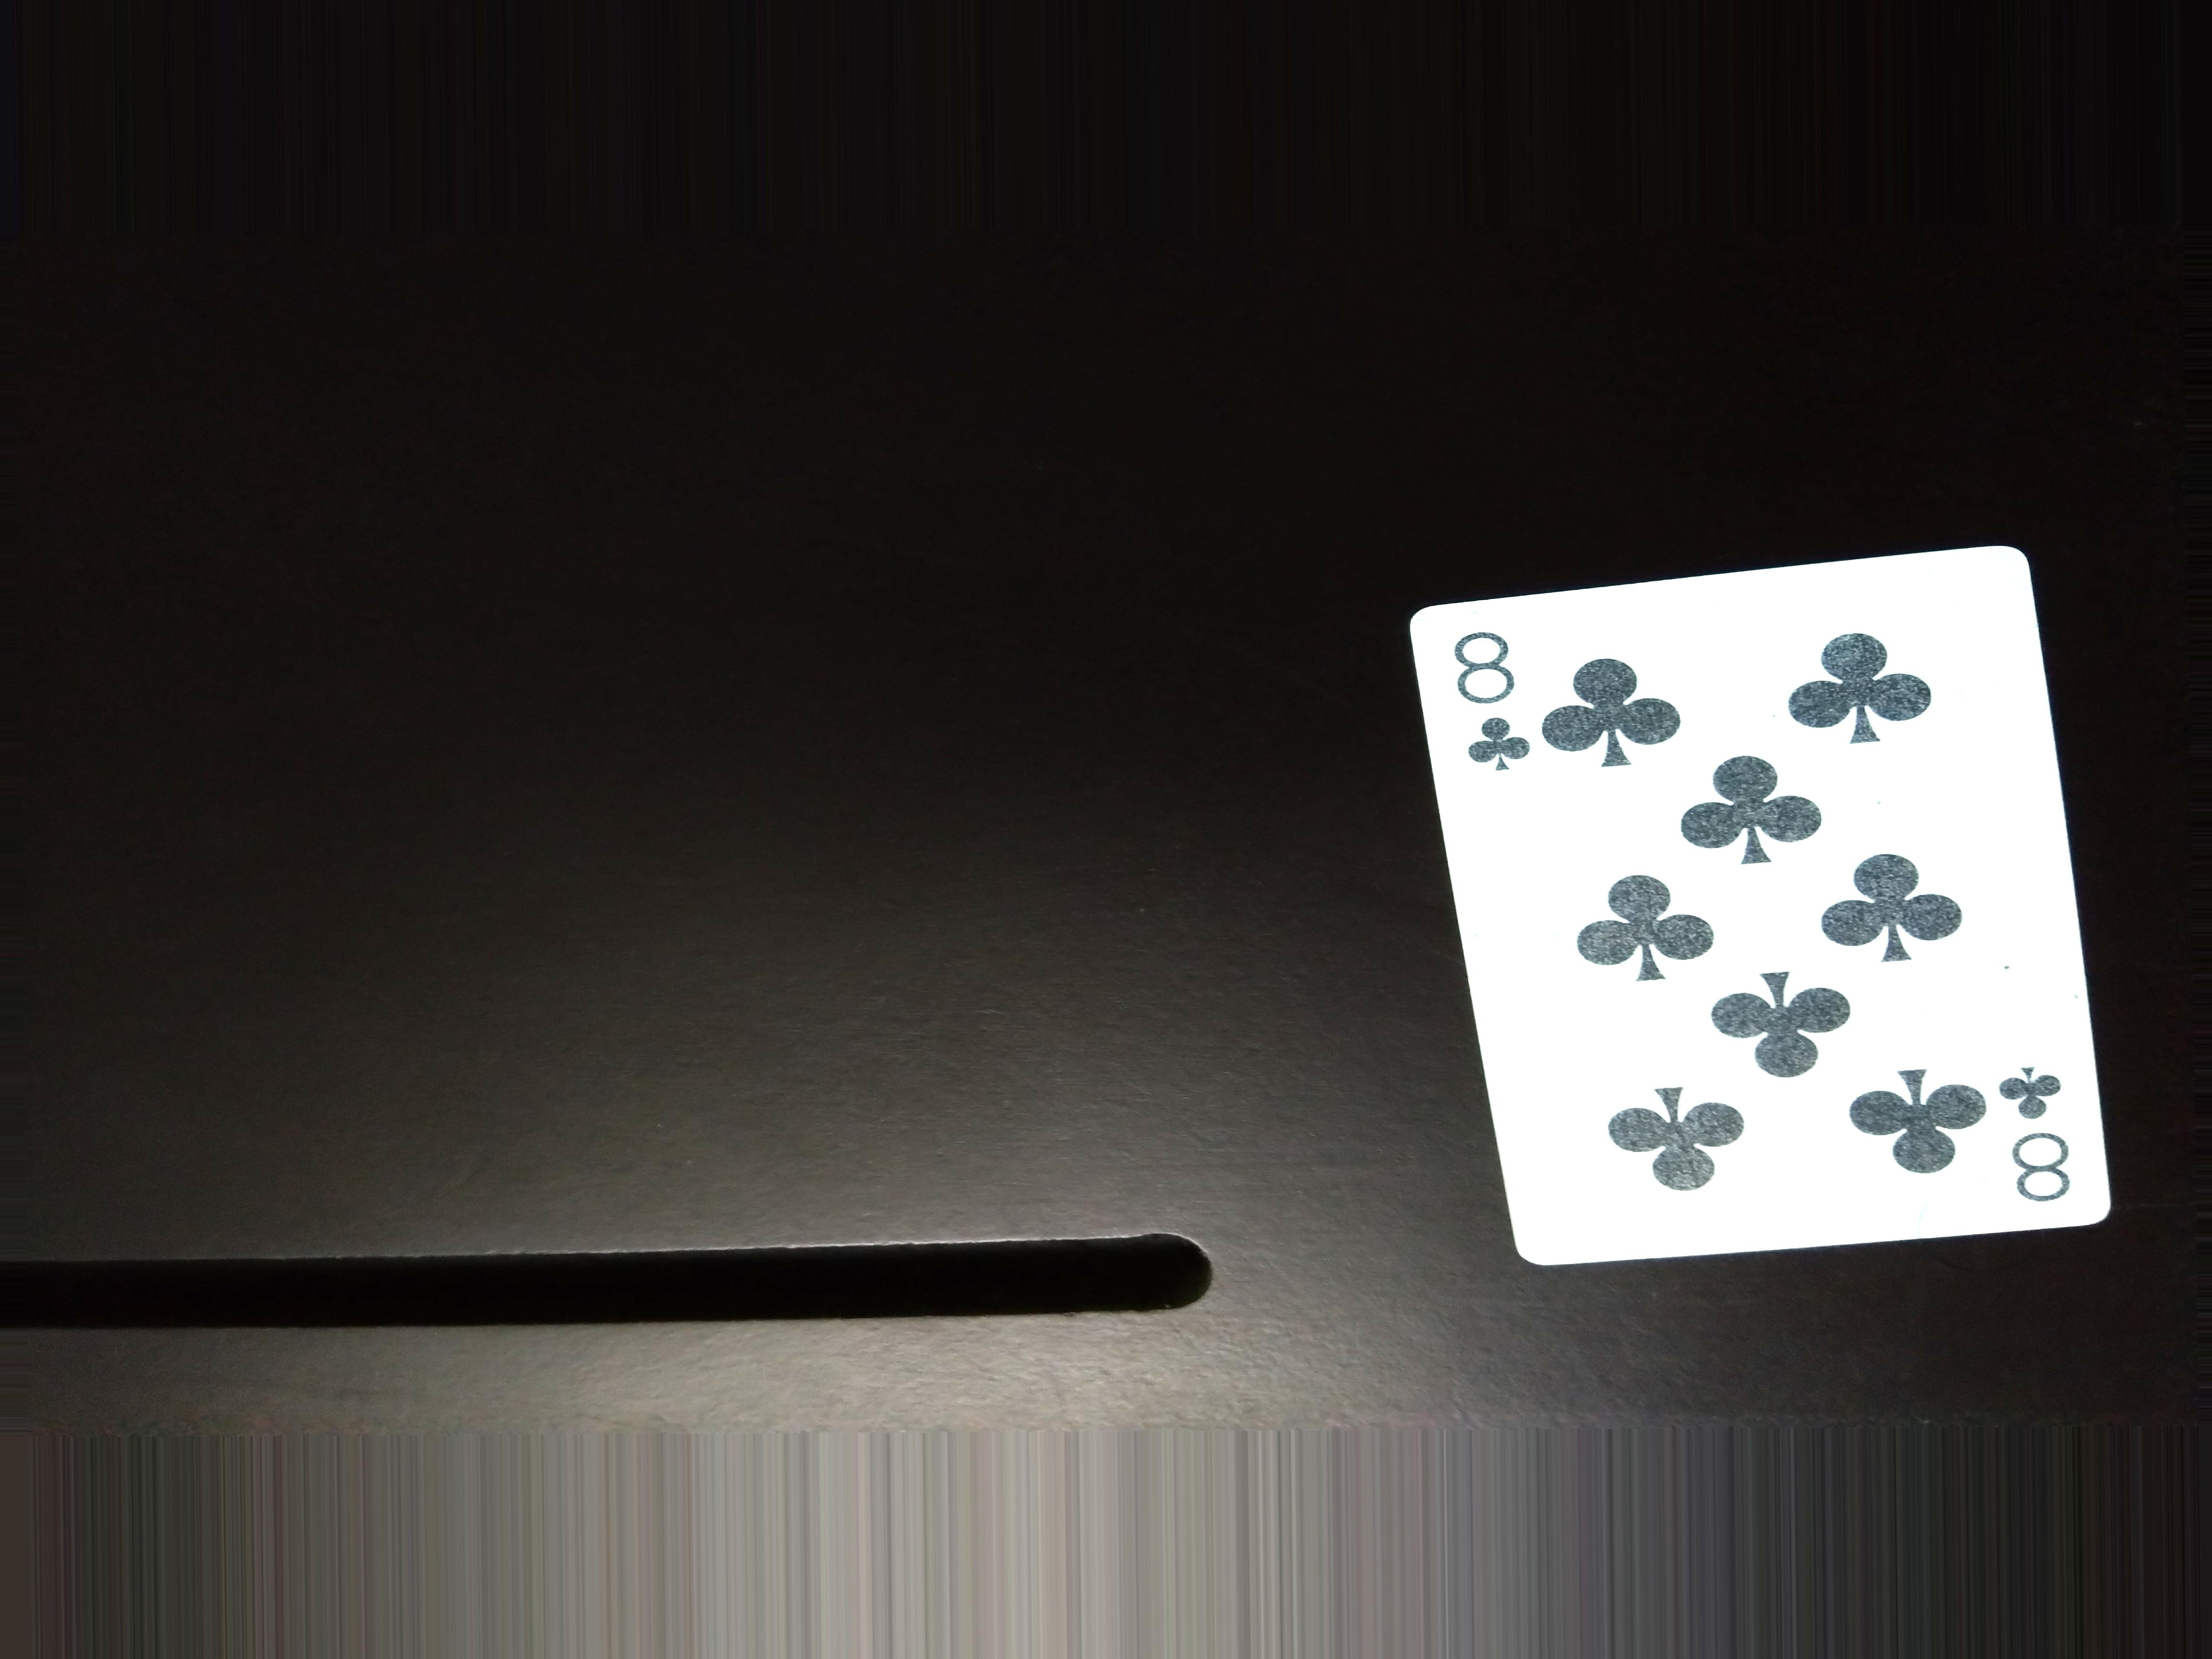8C: (1437, 620, 1575, 826)
